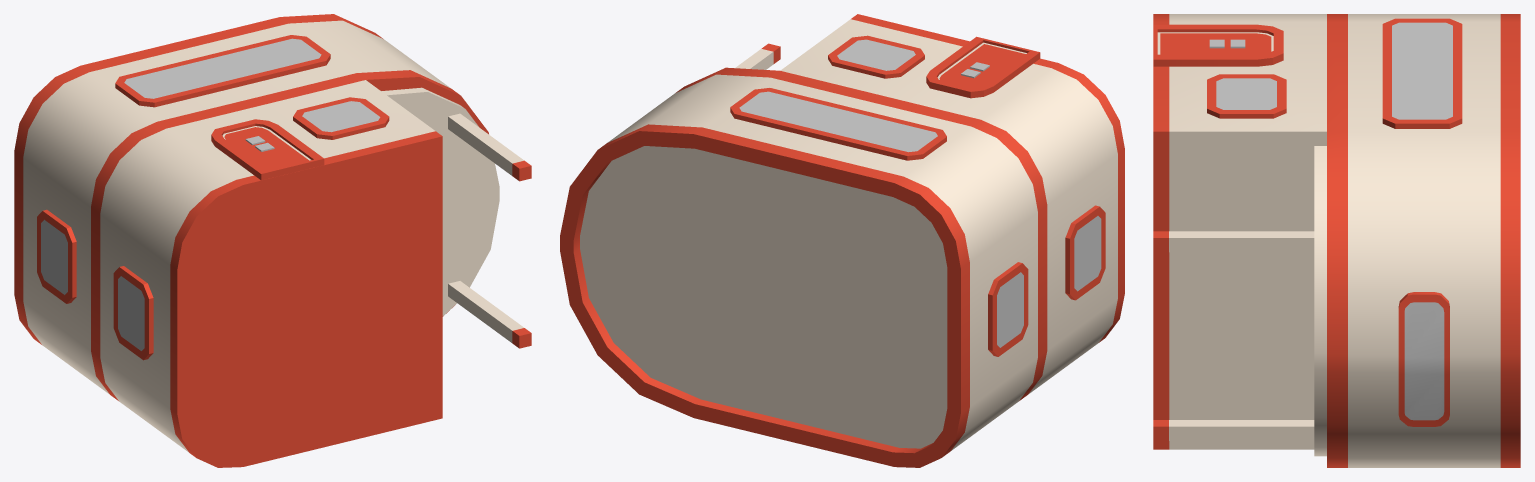
Rendered from House01.fbx.
The picture shows the model from 3 angles, left to right: view 1: azimuth 30°, elevation 25°; view 2: azimuth 150°, elevation 25°; view 3: azimuth 270°, elevation 25°; orthographic projection. The views are drawn at different scales.
Visible parts, largest first — view 1: dh020; view 2: dh020; view 3: dh020.
Part boxes in pixels (left/top/right/bottom): dh020: left=14, top=14, right=531, bottom=467; dh020: left=560, top=14, right=1124, bottom=467; dh020: left=1153, top=14, right=1520, bottom=467.
Size of the model in its own units: 916 by 630 by 635.
